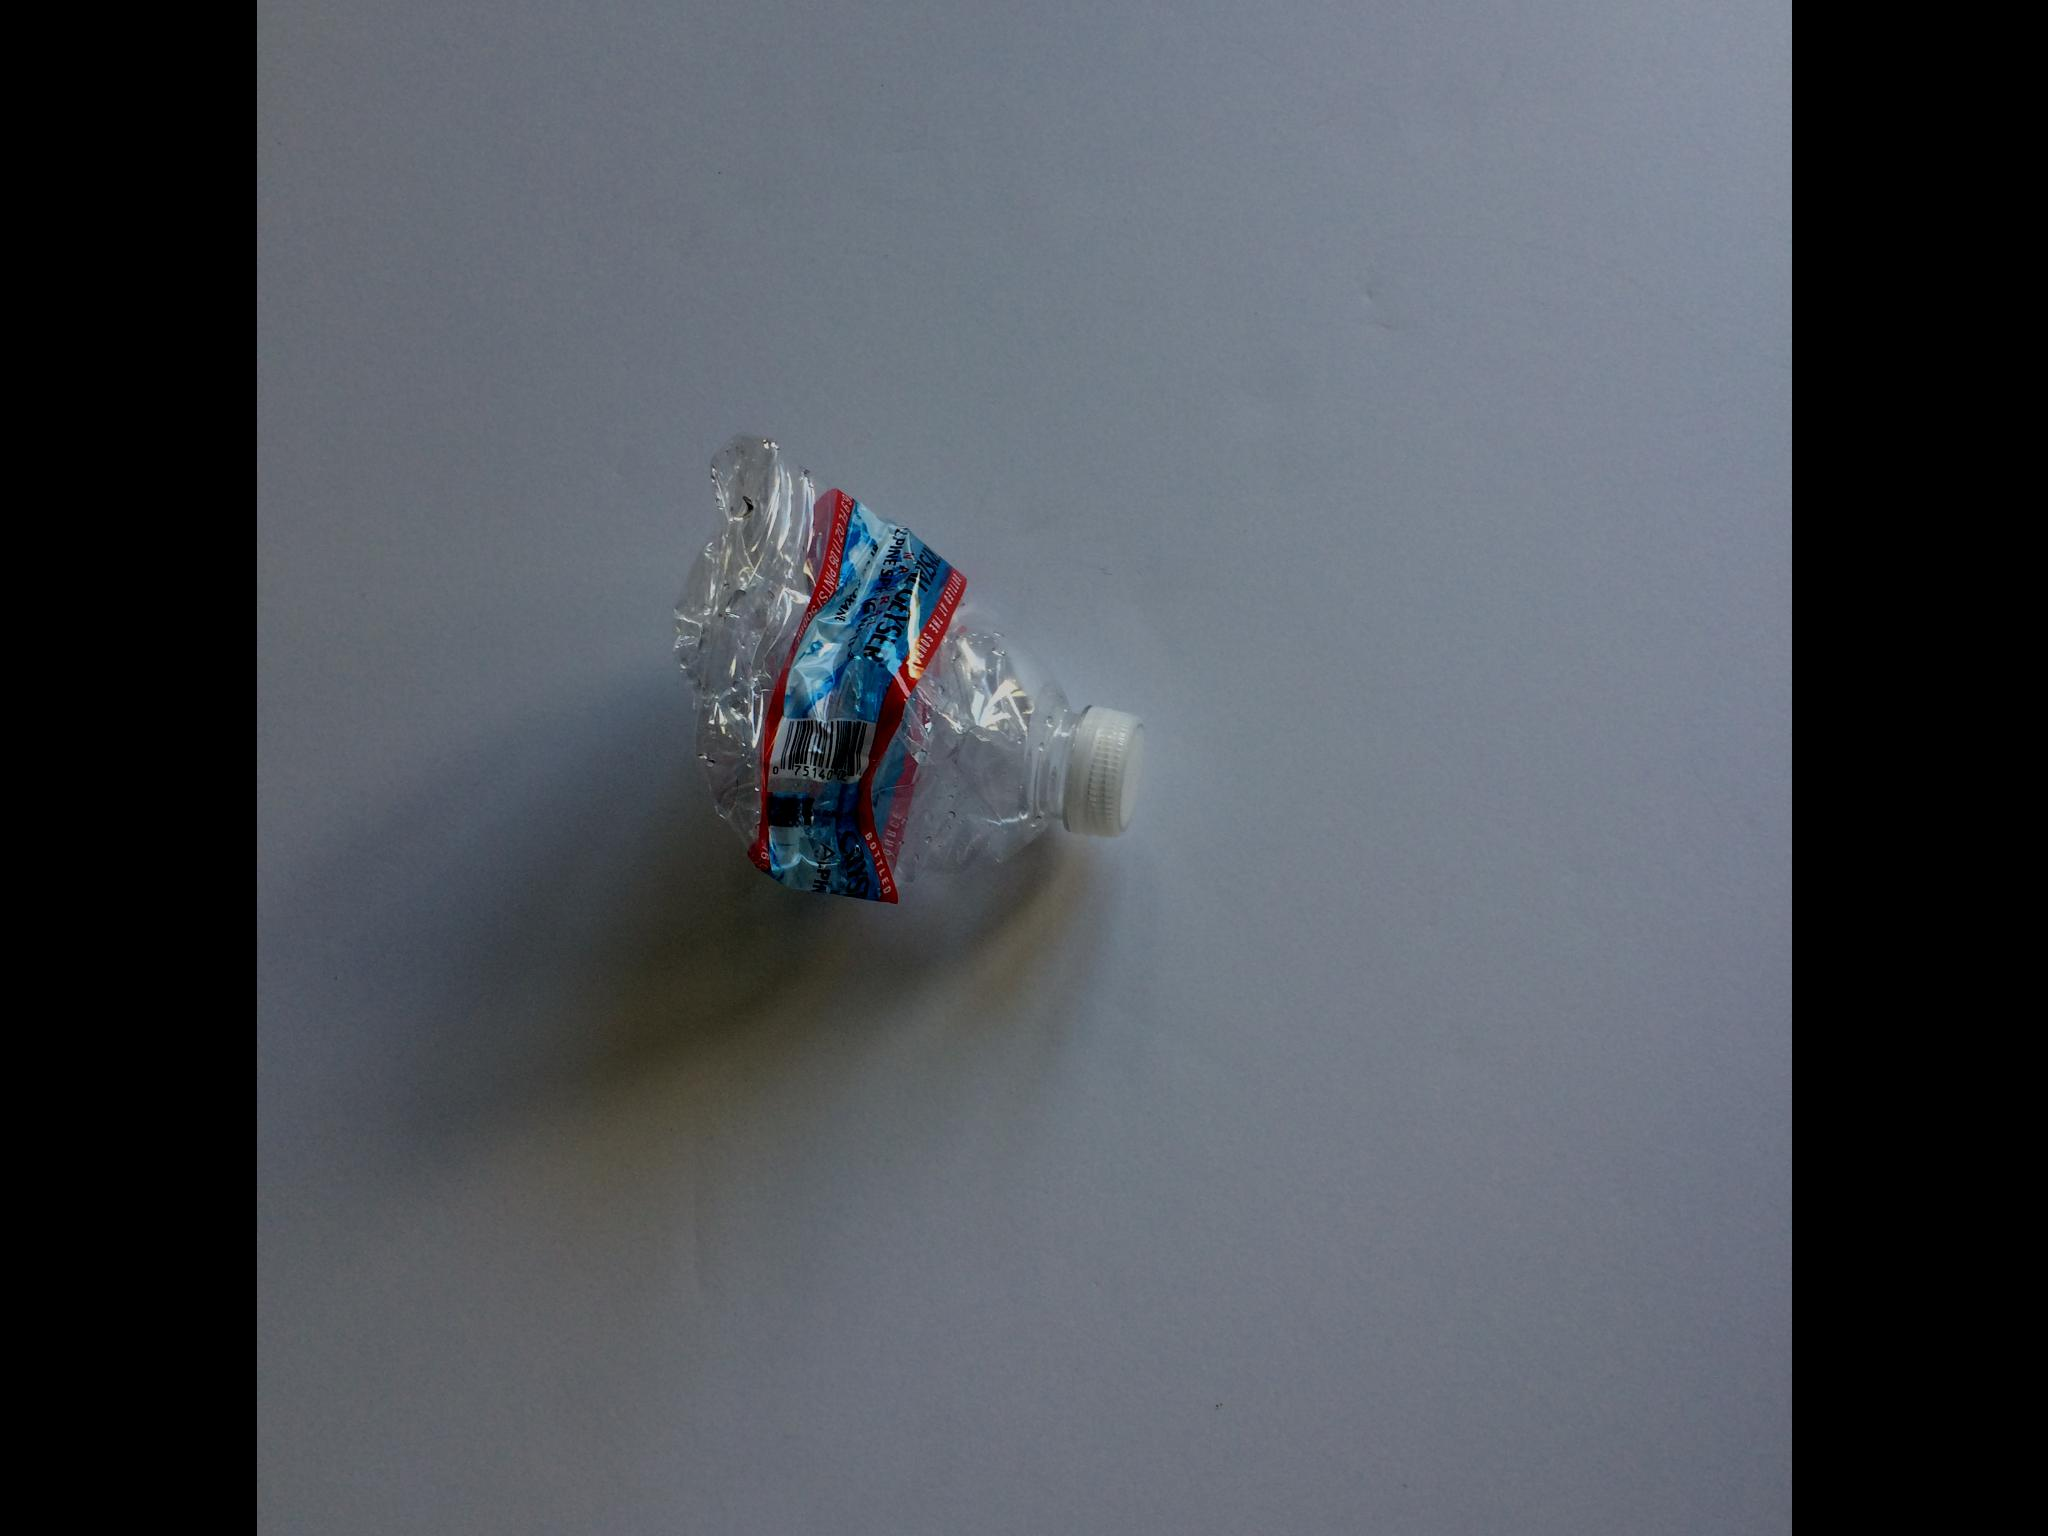Plastic: (660, 429, 1153, 918)
